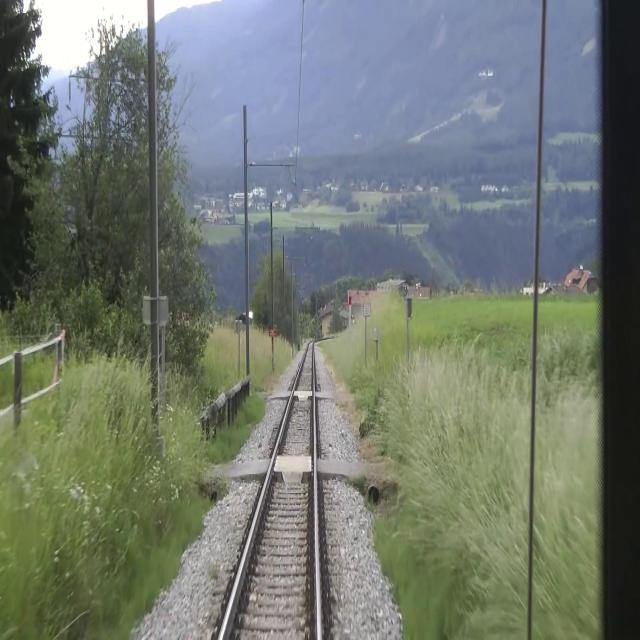rail-track: (222, 344, 315, 639)
